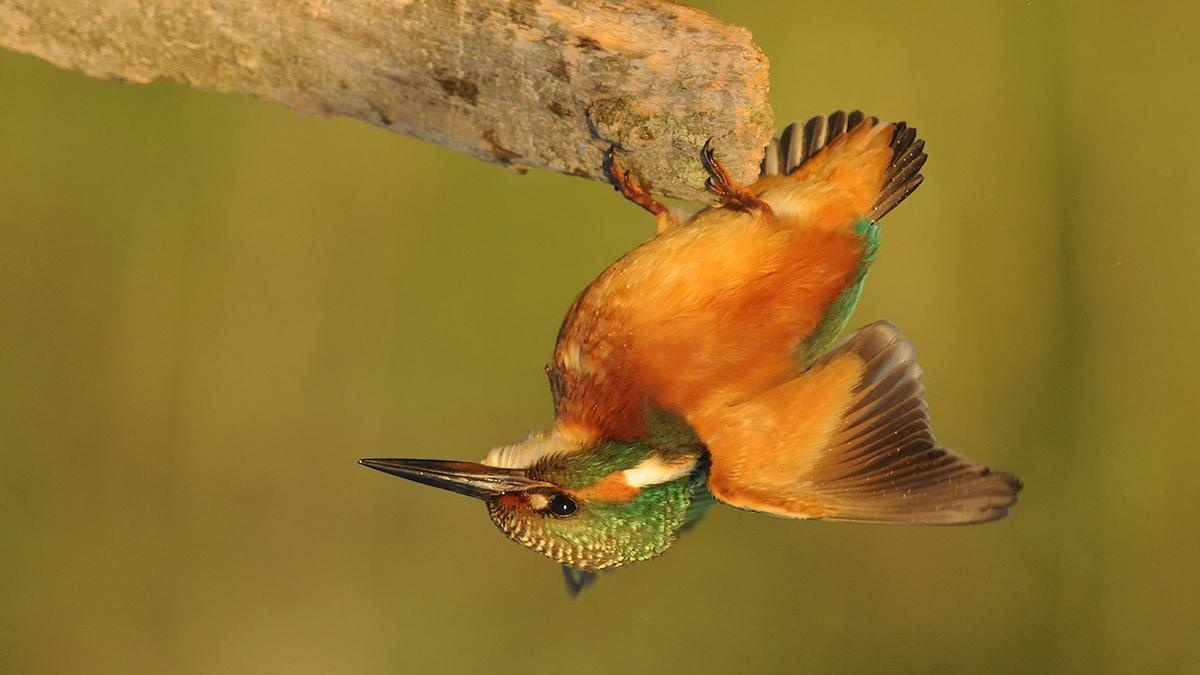kingfisher: (359, 135, 1025, 614)
